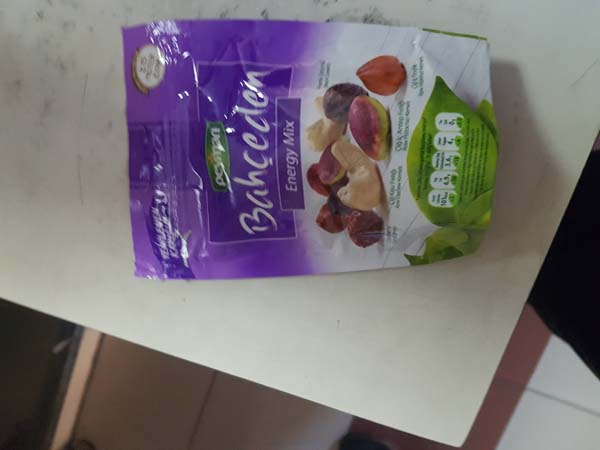bahcedenenergymix: (117, 15, 499, 278)
